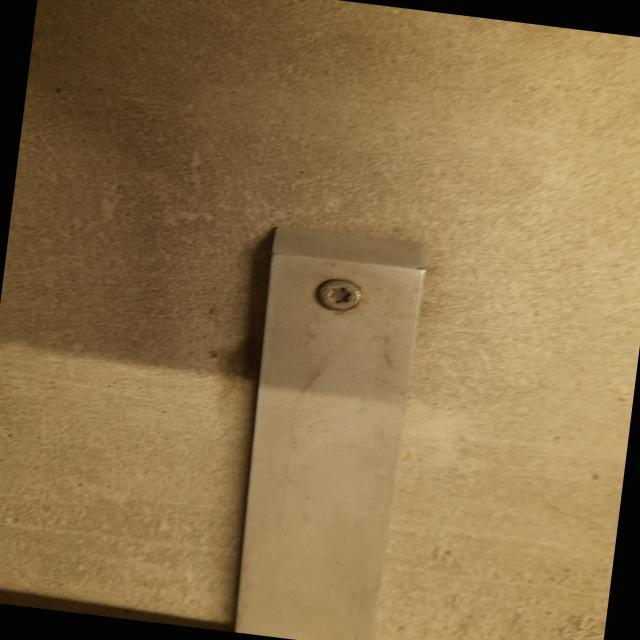Torx: (311, 276, 368, 316)
